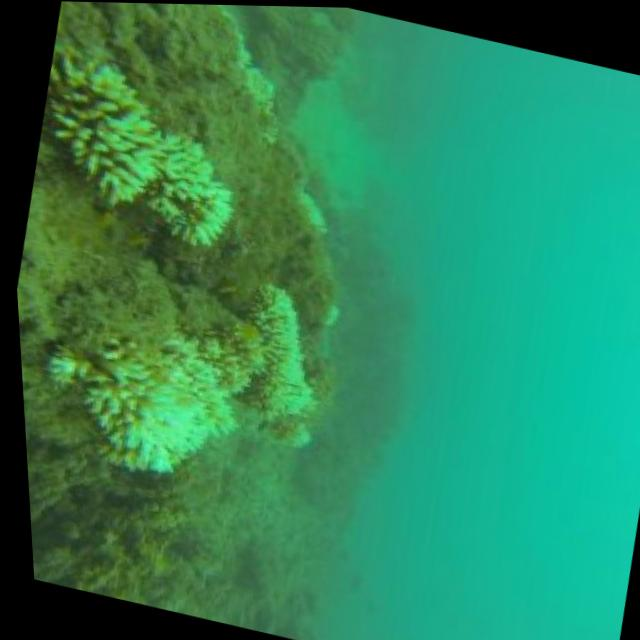Bleached Coral: (18, 287, 281, 511), (17, 42, 257, 260), (209, 278, 361, 458)
